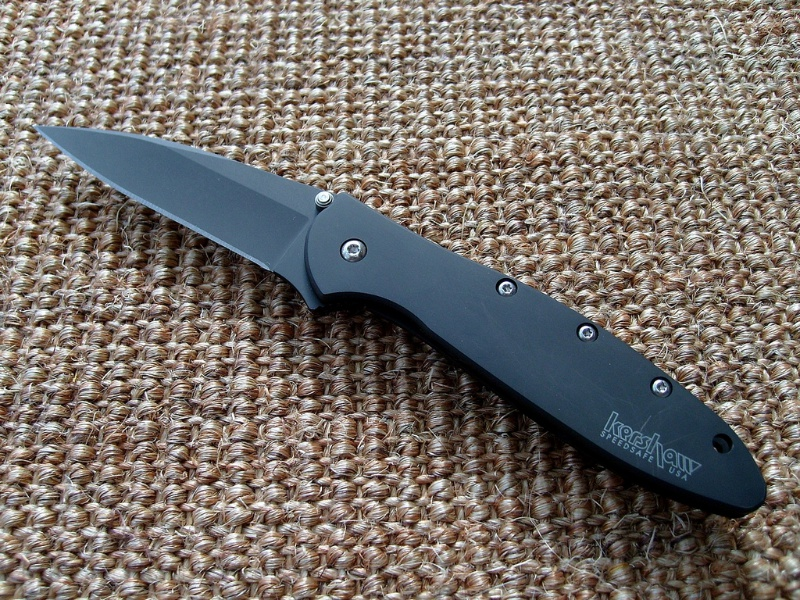wine: (55, 40, 417, 573), (422, 96, 626, 516), (534, 229, 760, 600)
